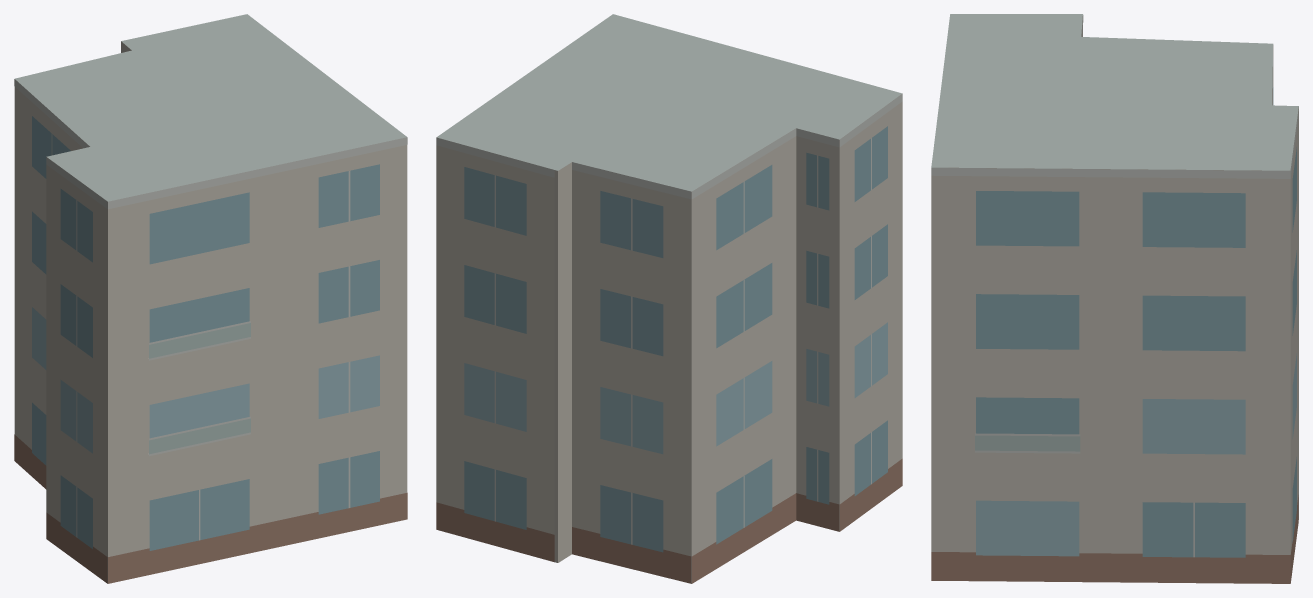
Rendered from survey-upis-32662931.glb.
3 renders of one model, left to right at view 1: azimuth 30°, elevation 25°; view 2: azimuth 150°, elevation 25°; view 3: azimuth 270°, elevation 25°, orthographic. The views are drawn at different scales.
Parts seen in each view (by area): view 1: survey-upis-32662931.tmp; view 2: survey-upis-32662931.tmp; view 3: survey-upis-32662931.tmp.
Part boxes in pixels (x1=…): survey-upis-32662931.tmp: x1=14, y1=14, x2=407, y2=583; survey-upis-32662931.tmp: x1=436, y1=14, x2=902, y2=583; survey-upis-32662931.tmp: x1=931, y1=14, x2=1298, y2=583.
Size of the model in its own units: 9.93 by 12.2 by 9.85.
